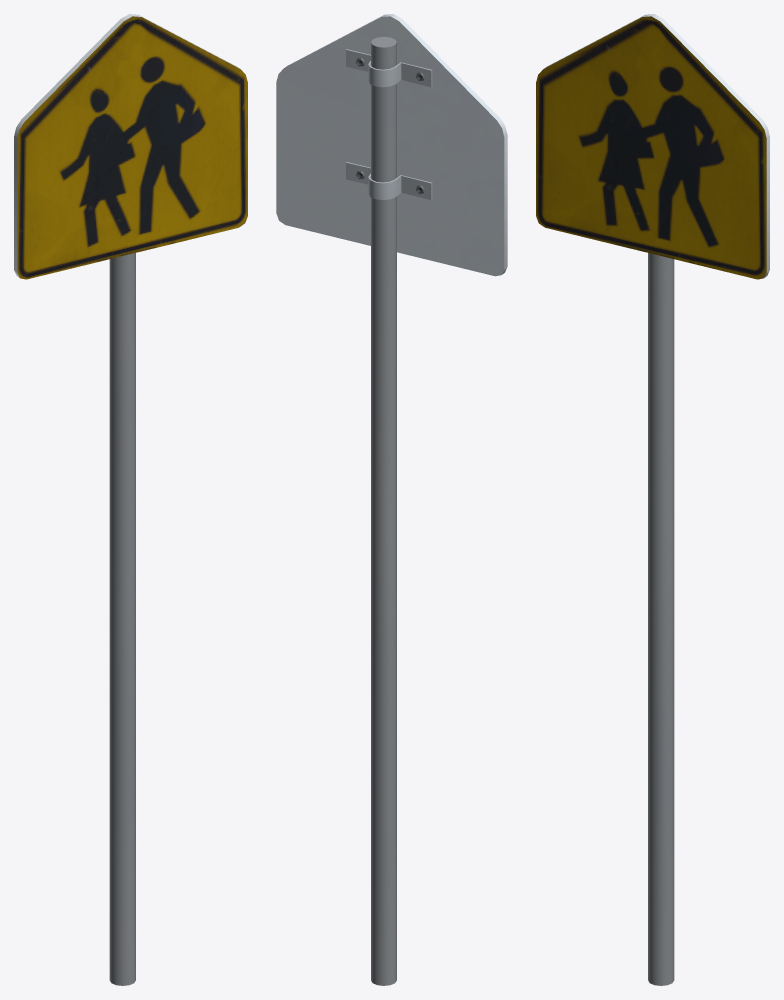
The model's file is StreetSigns_7.fbx.
3 renders of one model, left to right at view 1: azimuth 30°, elevation 25°; view 2: azimuth 150°, elevation 25°; view 3: azimuth 330°, elevation 25°, orthographic.
Parts seen in each view (by area): view 1: StreetSigns_7; view 2: StreetSigns_7; view 3: StreetSigns_7.
Boxes of the visible parts, left/top/right/bottom form: StreetSigns_7: left=14, top=14, right=247, bottom=985; StreetSigns_7: left=276, top=14, right=507, bottom=985; StreetSigns_7: left=536, top=14, right=769, bottom=985.
Bounding box in the file's own units: 1.02 × 4.09 × 0.1384.
